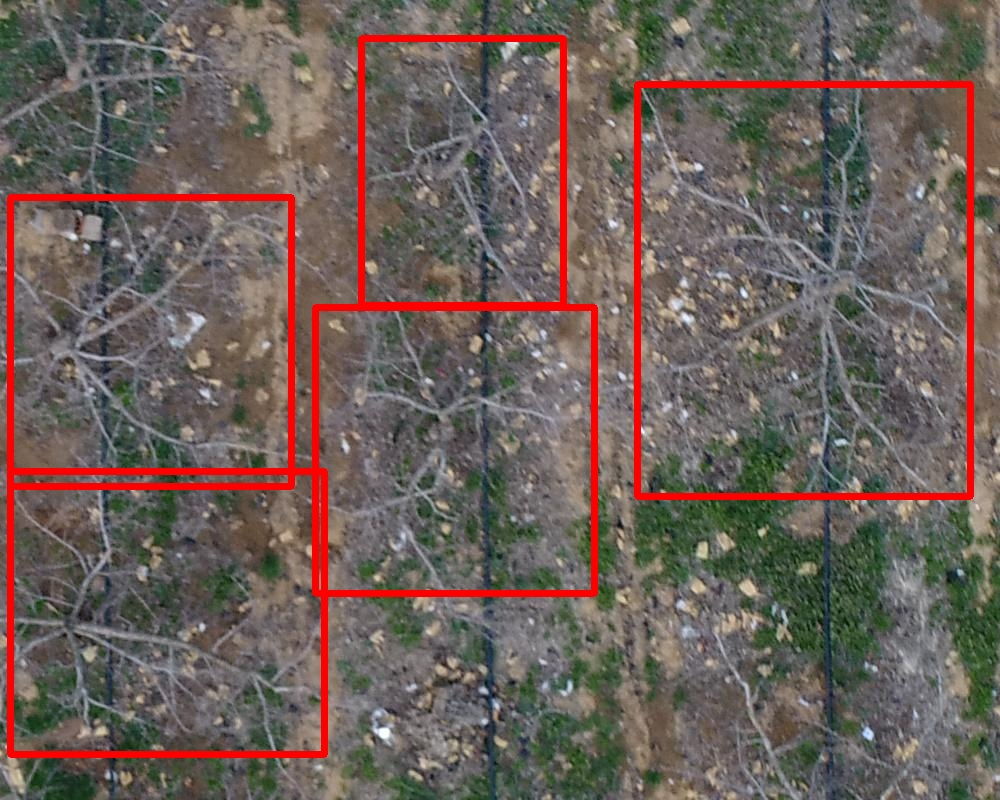apple: (637, 84, 970, 496), (10, 471, 324, 754), (10, 197, 291, 486), (315, 307, 594, 593), (361, 38, 563, 305)
